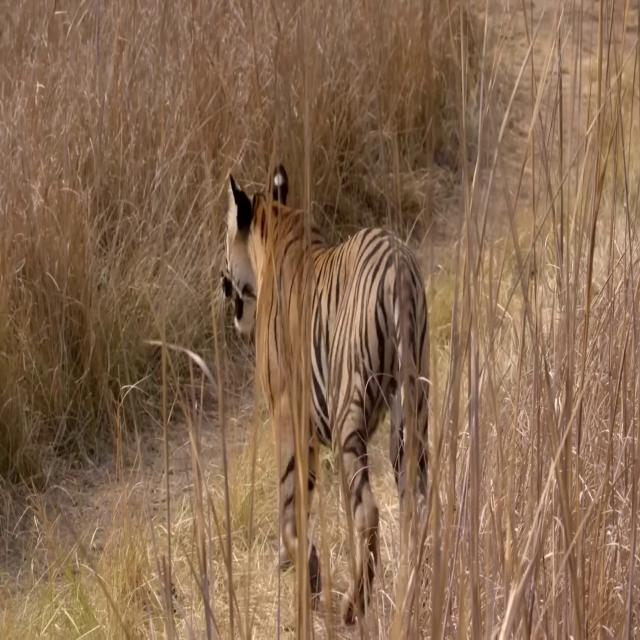tiger: (220, 159, 430, 623)
